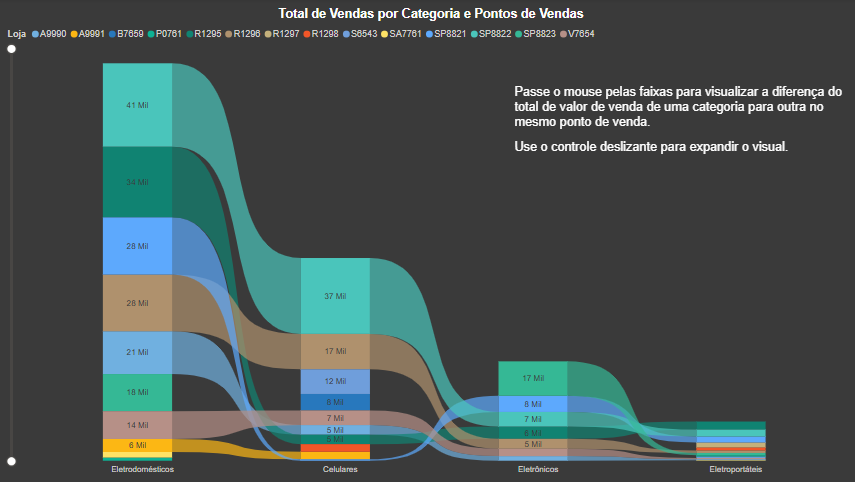

What the dashboard file says about the page in this screenshot:
{"tool":"powerbi","page":{"name":"Faixas de Vendas por Categoria e Pontos de Vendas","canvas":[1280,720],"ordinal":3},"visuals":[{"type":"ribbonChart","title":"Total de Vendas por Categoria e Pontos de Vendas","fields":{"Category":["Vendas.Categoria"],"Y":["Sum(Vendas.ValorVenda)"],"Series":["Vendas.Loja"]},"box":[11.8,11.8,1254.9,696.5],"z":0},{"type":"textbox","box":[756.7,122,496.7,173.4],"z":2}]}

Visuals, with their boxes in screenshot pixels (x1, y1, x2, y2), scaled from the page's 1280x720 canvas onto the 855x482 screenshot:
"Total de Vendas por Categoria e Pontos de Vendas" ribbonChart: bbox=[8, 8, 846, 474]
textbox: bbox=[505, 82, 837, 198]
